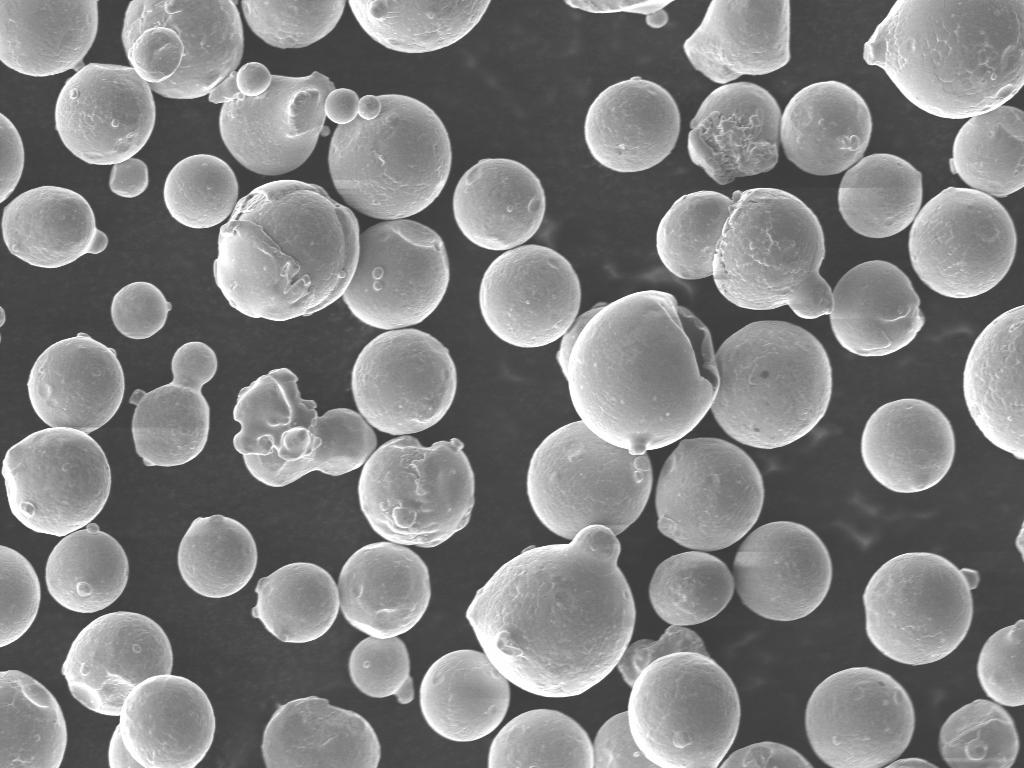Powder: (466, 524, 634, 696), (558, 290, 720, 456), (656, 188, 832, 318), (214, 180, 358, 319), (864, 0, 1024, 118), (618, 626, 740, 766), (234, 368, 376, 486), (324, 90, 452, 219), (712, 322, 832, 449), (528, 420, 652, 539), (210, 62, 334, 175), (56, 64, 156, 197), (864, 552, 980, 665), (358, 436, 474, 547), (656, 438, 764, 551), (122, 0, 244, 98), (908, 188, 1016, 298), (2, 428, 110, 535), (344, 220, 450, 329), (62, 612, 172, 715), (352, 328, 456, 434), (806, 668, 914, 767), (130, 342, 216, 466), (480, 244, 582, 348), (110, 674, 216, 768), (734, 522, 832, 621), (28, 334, 124, 433), (688, 82, 780, 184), (584, 76, 680, 172), (964, 306, 1024, 458), (830, 260, 924, 356), (684, 0, 790, 83), (338, 542, 430, 637), (2, 186, 108, 268), (862, 398, 954, 492), (780, 82, 872, 175), (454, 158, 546, 250), (420, 650, 510, 742), (262, 698, 380, 768), (0, 0, 98, 76), (350, 1, 490, 52), (46, 524, 128, 611), (838, 154, 922, 238), (252, 562, 340, 642), (950, 106, 1024, 198), (178, 518, 258, 598), (648, 552, 734, 626), (0, 672, 66, 767), (488, 710, 594, 768), (938, 700, 1020, 767), (164, 154, 238, 228), (242, 0, 345, 48), (348, 636, 416, 704), (978, 618, 1024, 706), (0, 546, 40, 645), (978, 620, 1024, 705), (594, 712, 658, 768), (110, 282, 170, 338), (566, 0, 671, 28), (720, 742, 812, 768), (0, 114, 24, 201), (886, 758, 938, 767), (1016, 524, 1024, 559), (1, 306, 6, 327)
